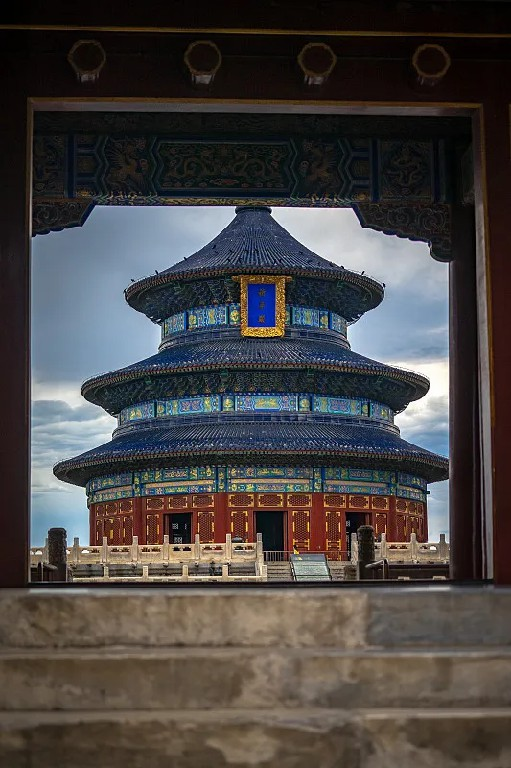Heaven: (51, 205, 449, 557)
